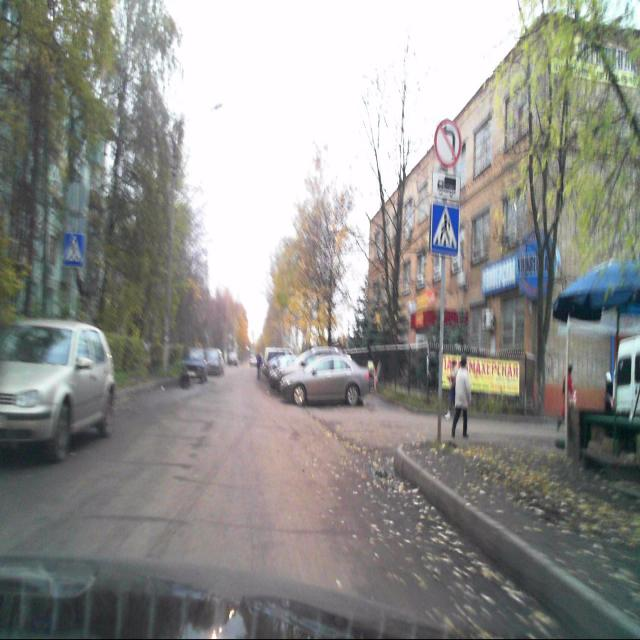road sign: (428, 205, 458, 256), (430, 173, 460, 203), (64, 232, 84, 268)
